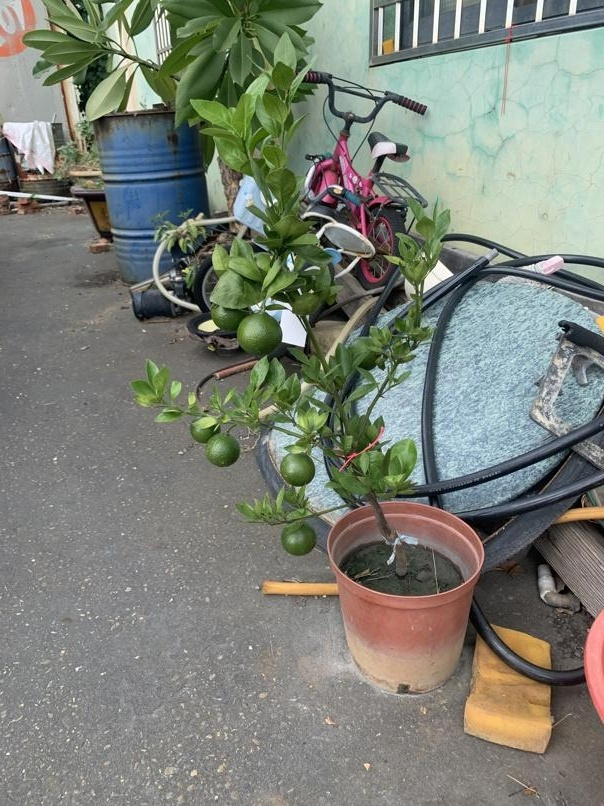Tangerine: (234, 307, 283, 358), (205, 428, 241, 469), (280, 521, 318, 558), (281, 448, 314, 488)
